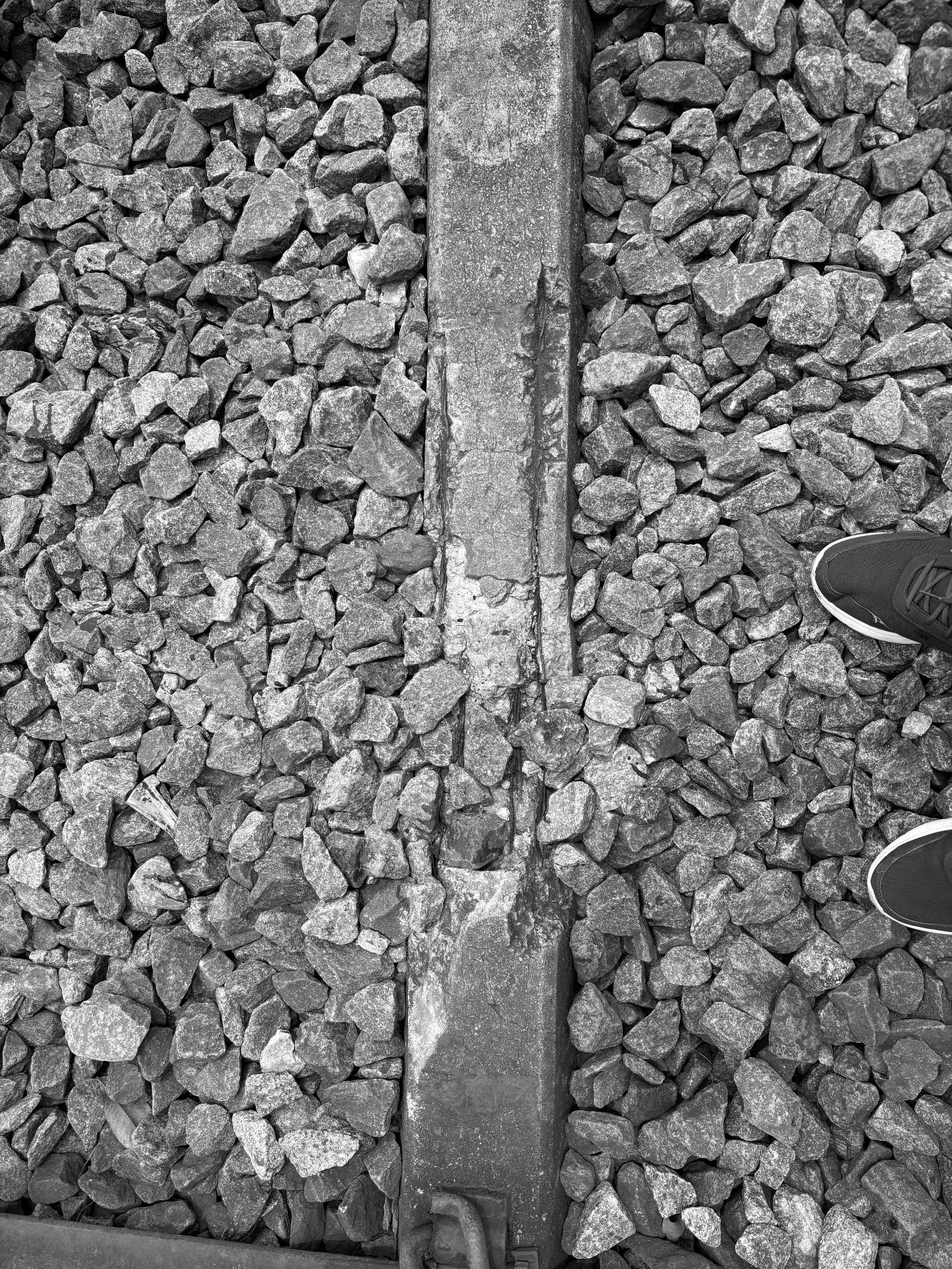cracks in midportion: (403, 221, 594, 1025)
